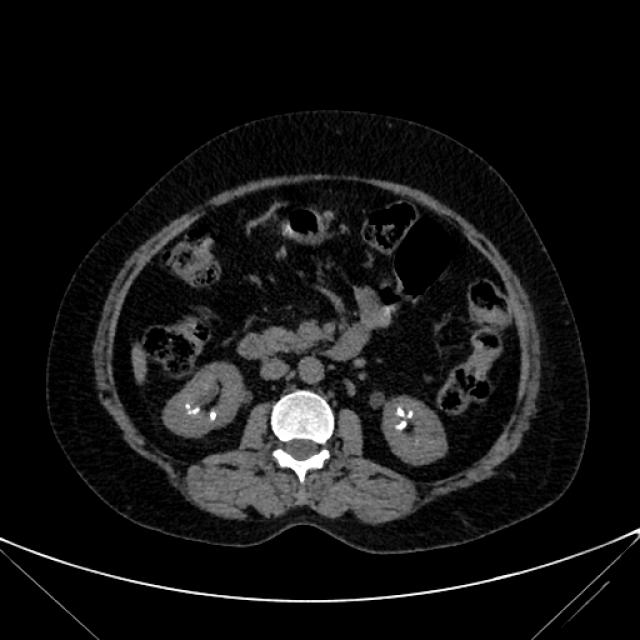kidney: (163, 358, 249, 440), (379, 390, 451, 469)
stone: (396, 420, 409, 430), (187, 406, 201, 414), (210, 409, 218, 421), (397, 406, 404, 418), (407, 408, 415, 418), (186, 402, 192, 410)
